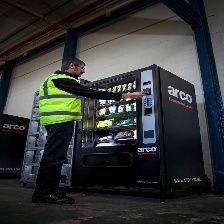no-helmet: (58, 56, 88, 75)
person: (32, 56, 89, 205)
vest: (36, 72, 87, 128)
